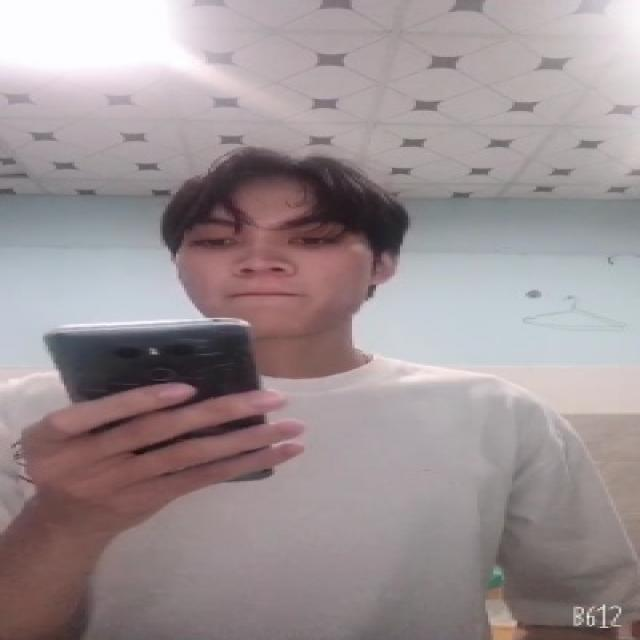Phone: (40, 314, 280, 484)
